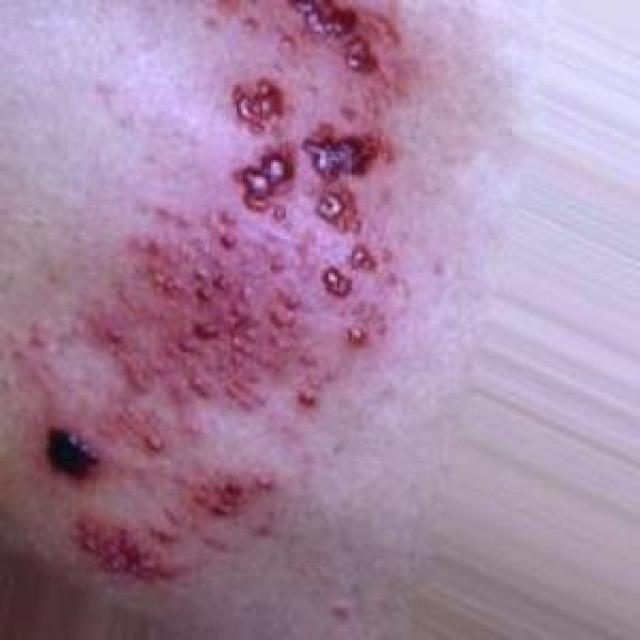Shingles: (28, 14, 440, 593)
